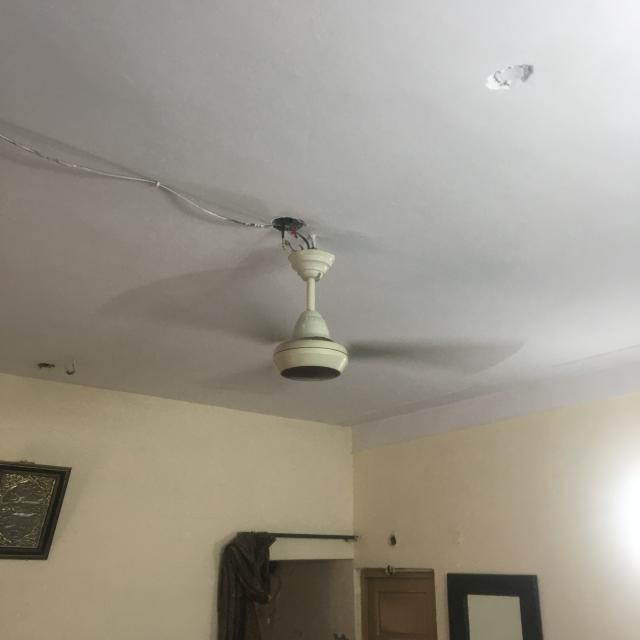on: (93, 254, 532, 412)
